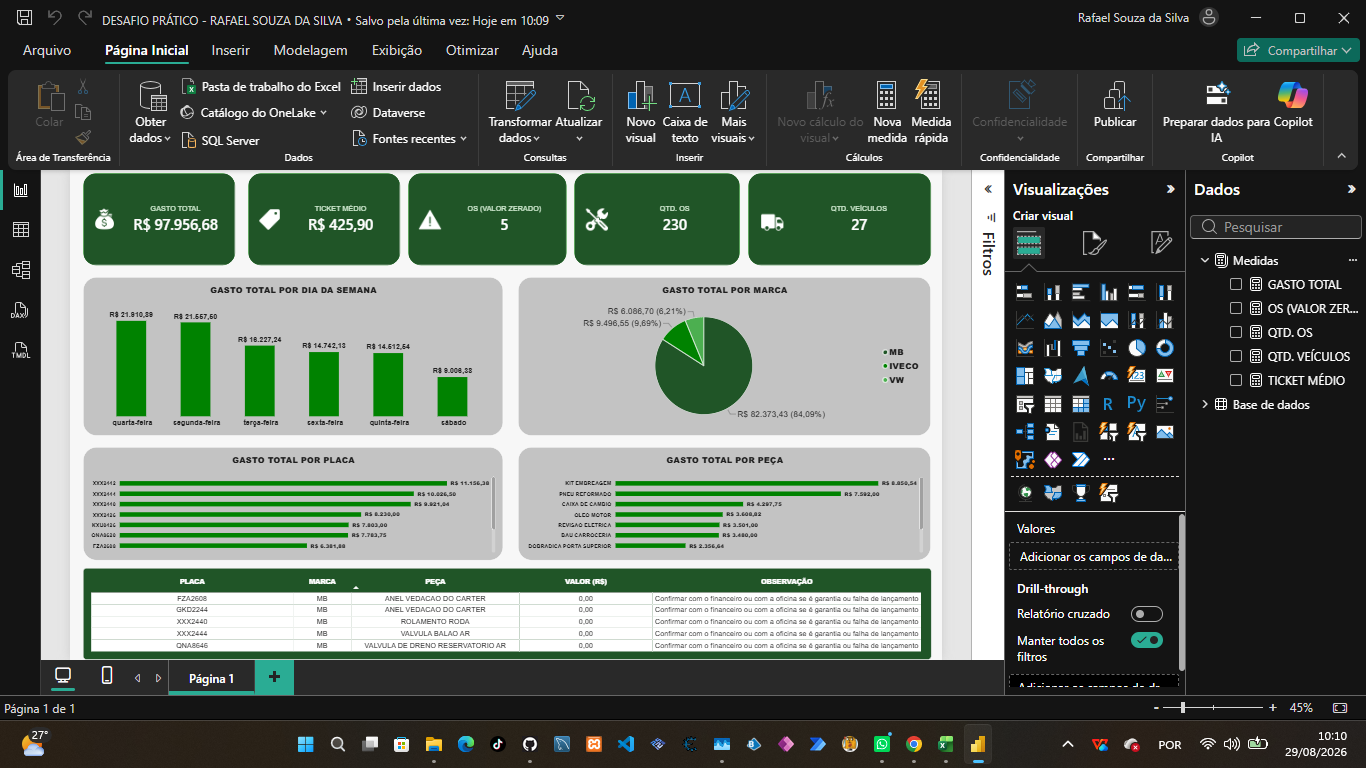

Layout of this report page (visuals, bound fields, positions):
{"tool":"powerbi","page":{"name":"Página 1","canvas":[1920,1080],"ordinal":0},"visuals":[{"type":"cardVisual","fields":{"Data":["Base de dados.Ticket Médio"]},"box":[392,6,336,204],"z":0},{"type":"cardVisual","fields":{"Data":["Base de dados.OS com Valor Zerado"]},"box":[744,6,350,204],"z":1000},{"type":"cardVisual","fields":{"Data":["Base de dados.QTD. OS"]},"box":[1110,6,366,204],"z":2000},{"type":"cardVisual","fields":{"Data":["Base de dados.QTD. VEÍCULOS"]},"box":[1494,6,404,204],"z":3000},{"type":"pieChart","title":"GASTO TOTAL POR MARCA","fields":{"Category":["Base de dados.MARCA"],"Y":["Base de dados.Gasto Total"]},"box":[988,236,910,350],"z":4000},{"type":"lineClusteredColumnComboChart","title":"GASTO TOTAL POR DIA DA SEMANA","fields":{"Category":["Base de dados.Nome do dia"],"Y":["Base de dados.Gasto Total"]},"box":[28,236,926,350],"z":5000},{"type":"clusteredBarChart","title":"GASTO TOTAL POR PEÇA","fields":{"Category":["Base de dados.Peça"],"Y":["Base de dados.Gasto Total"]},"box":[988,610,910,250],"z":6000},{"type":"clusteredBarChart","title":"GASTO TOTAL POR PLACA","fields":{"Category":["Base de dados.Placa"],"Y":["Base de dados.Gasto Total"]},"box":[28,610,926,250],"z":7000},{"type":"tableEx","fields":{"Values":["Base de dados.Placa","Base de dados.MARCA","Base de dados.Peça","Sum(Base de dados.Valor (R$))","Base de dados.Observação"]},"box":[28,878,1870,202],"z":8000},{"type":"cardVisual","fields":{"Data":["Base de dados.GASTO TOTAL"]},"box":[28,6,336,204],"z":9000}]}

Visuals, with their boxes on the page's 1920x1080 design canvas (x1, y1, x2, y2). These are canvas units, not pixel positions in the 1366x768 screenshot, which may show the page scaled, cropped or inside an application window:
cardVisual - Base de dados.Ticket Médio: x1=392, y1=6, x2=728, y2=210
cardVisual - Base de dados.OS com Valor Zerado: x1=744, y1=6, x2=1094, y2=210
cardVisual - Base de dados.QTD. OS: x1=1110, y1=6, x2=1476, y2=210
cardVisual - Base de dados.QTD. VEÍCULOS: x1=1494, y1=6, x2=1898, y2=210
"GASTO TOTAL POR MARCA" pieChart: x1=988, y1=236, x2=1898, y2=586
"GASTO TOTAL POR DIA DA SEMANA" lineClusteredColumnComboChart: x1=28, y1=236, x2=954, y2=586
"GASTO TOTAL POR PEÇA" clusteredBarChart: x1=988, y1=610, x2=1898, y2=860
"GASTO TOTAL POR PLACA" clusteredBarChart: x1=28, y1=610, x2=954, y2=860
tableEx - Base de dados.Placa x Base de dados.MARCA: x1=28, y1=878, x2=1898, y2=1080
cardVisual - Base de dados.GASTO TOTAL: x1=28, y1=6, x2=364, y2=210
